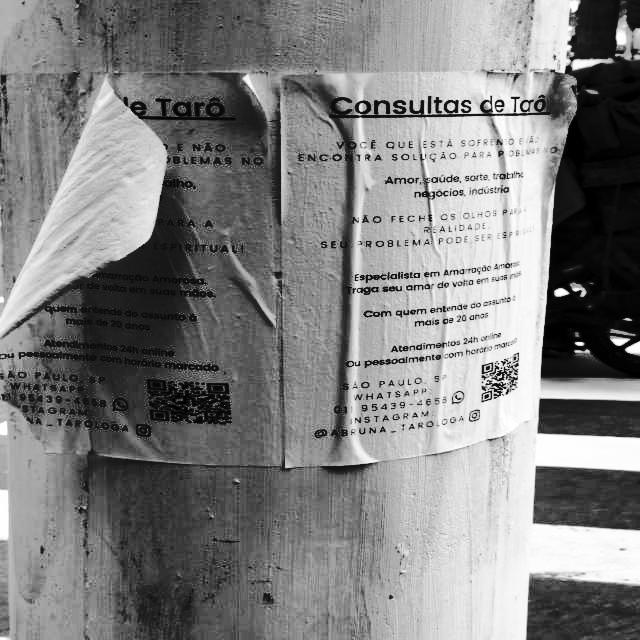qr_code: (148, 380, 232, 425), (482, 352, 520, 403)
